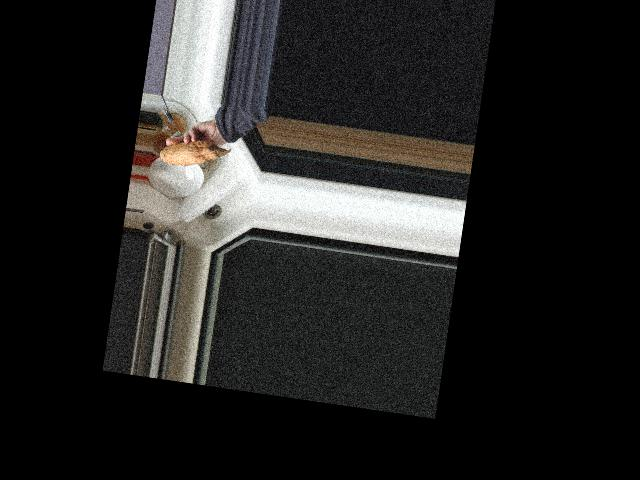sweet_potato: (158, 134, 232, 174)
